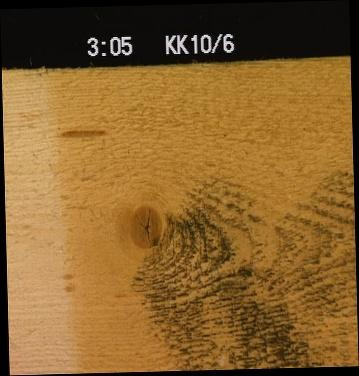sound_knot: (125, 203, 161, 248)
